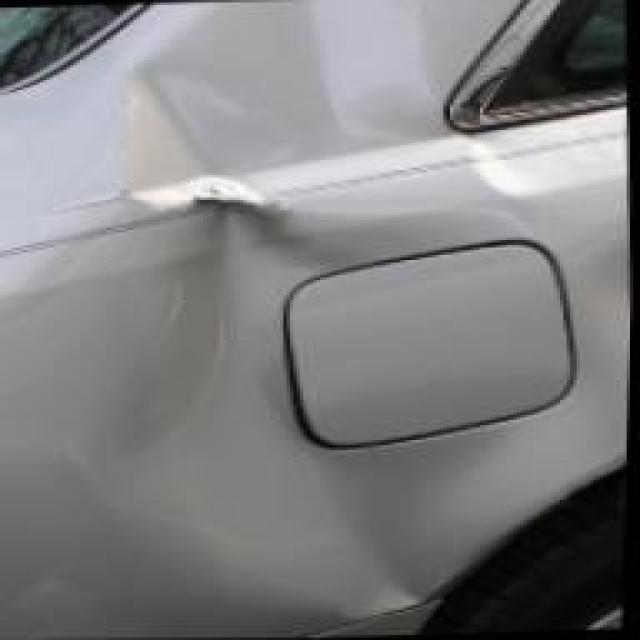Fender: (0, 0, 507, 640)
